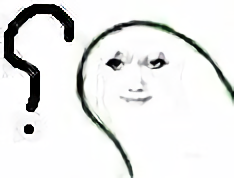dragon: (104, 51, 170, 106)
